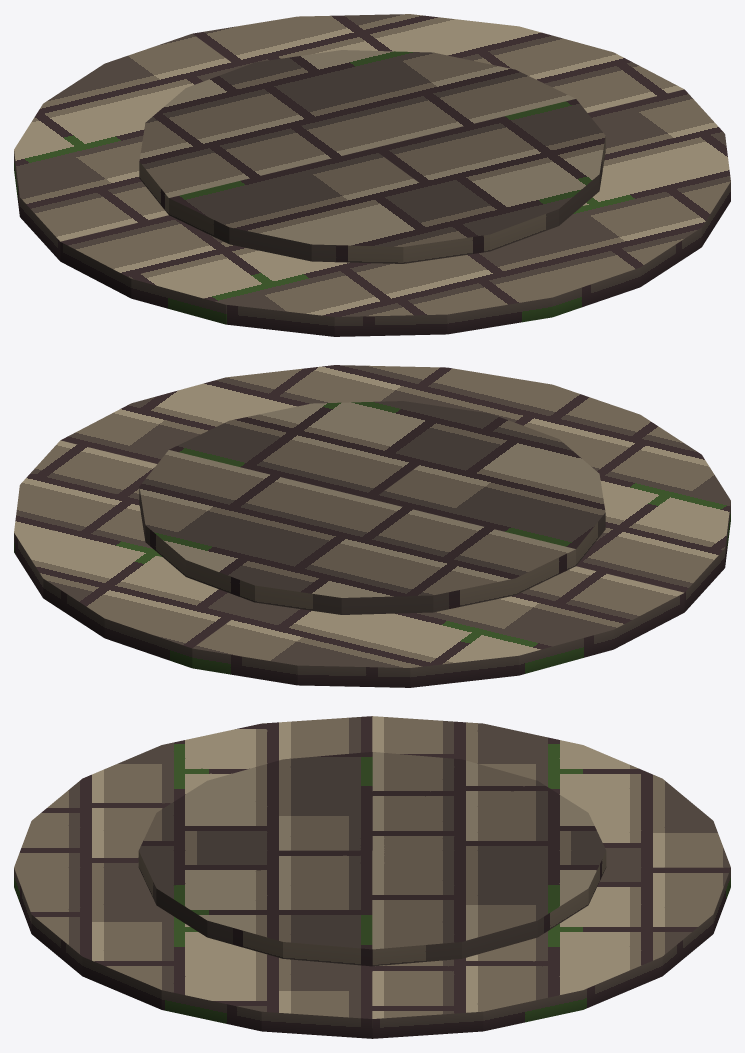
The model's file is rift_dais.glb.
3 views of the same model, one above another, from view 1: azimuth 30°, elevation 25°; view 2: azimuth 150°, elevation 25°; view 3: azimuth 270°, elevation 25° (orthographic).
Parts seen in each view (by area): view 1: rift_dais; view 2: rift_dais; view 3: rift_dais.
Part boxes in pixels (<box>): rift_dais: <box>14,14,730,336</box>; rift_dais: <box>14,365,730,687</box>; rift_dais: <box>14,716,730,1038</box>.
Bounding box in the file's own units: 4.6 × 0.26 × 4.6.
1 material, 1 textured.
